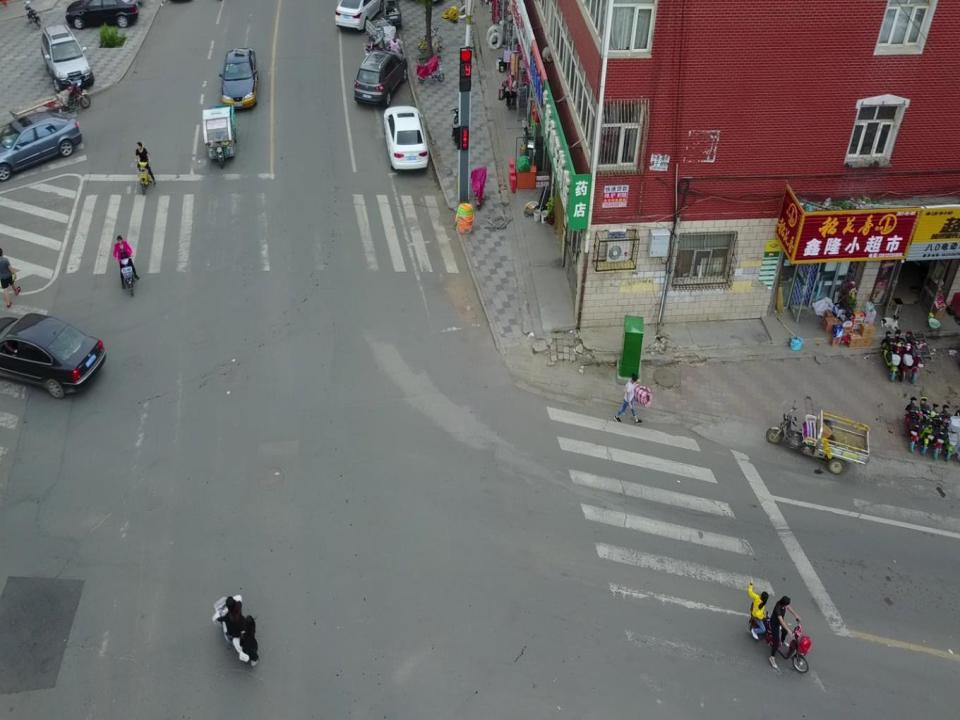car: (0, 314, 107, 398), (0, 110, 85, 179), (36, 26, 94, 88), (354, 47, 410, 105), (383, 106, 431, 172), (220, 44, 256, 111), (60, 0, 141, 27), (333, 2, 385, 33)
